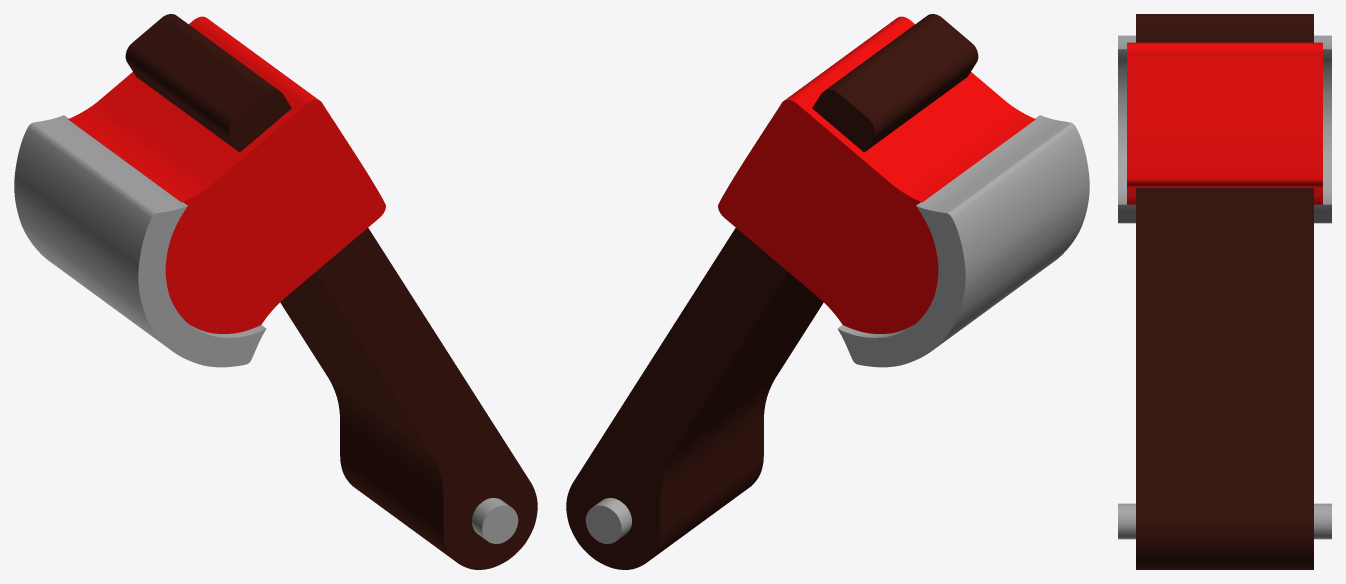
3 renders of one model, left to right at view 1: azimuth 30°, elevation 25°; view 2: azimuth 150°, elevation 25°; view 3: azimuth 270°, elevation 25°, orthographic. The views are drawn at different scales.
Parts seen in each view (by area): view 1: U+1FA93_layer00_obj00, U+1FA93_layer01_obj00, U+1FA93_layer02_obj00; view 2: U+1FA93_layer00_obj00, U+1FA93_layer01_obj00, U+1FA93_layer02_obj00; view 3: U+1FA93_layer00_obj00, U+1FA93_layer01_obj00, U+1FA93_layer02_obj00.
Boxes of the visible parts, x1,y1,x2,y2 form: U+1FA93_layer00_obj00: [125, 14, 537, 569]; U+1FA93_layer01_obj00: [68, 16, 385, 333]; U+1FA93_layer02_obj00: [14, 115, 518, 543]; U+1FA93_layer00_obj00: [566, 14, 978, 569]; U+1FA93_layer01_obj00: [718, 16, 1035, 333]; U+1FA93_layer02_obj00: [585, 115, 1089, 543]; U+1FA93_layer00_obj00: [1136, 14, 1313, 569]; U+1FA93_layer01_obj00: [1127, 42, 1322, 204]; U+1FA93_layer02_obj00: [1118, 35, 1331, 539].
Size of the model in its own units: 0.4578 by 0.5677 by 0.24.
